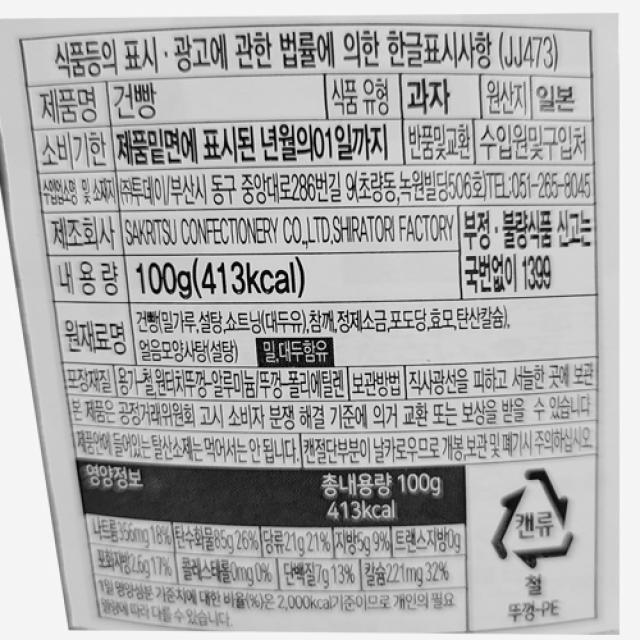Nutrition Label: (62, 451, 481, 640)
